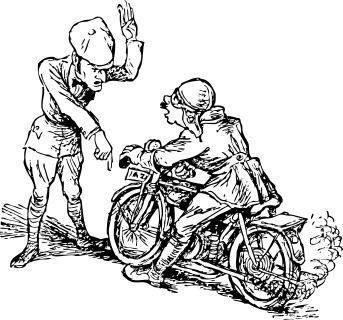motorbike: (109, 140, 307, 308)
person: (9, 1, 145, 268), (119, 77, 276, 289)
